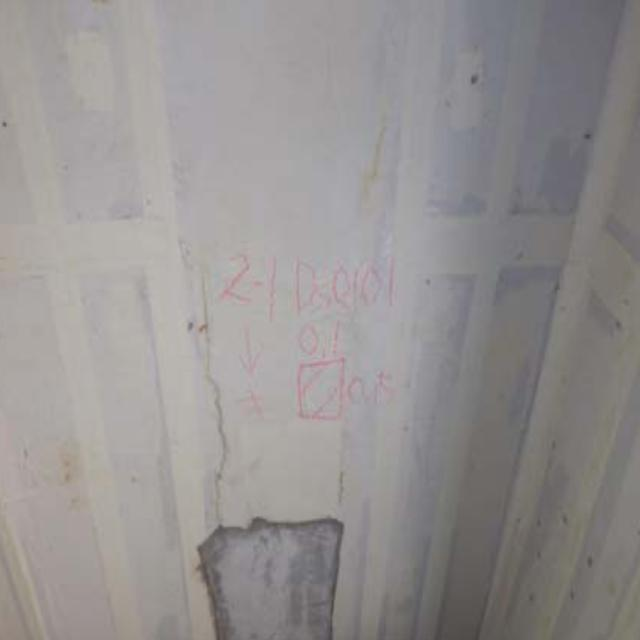crack: (184, 276, 253, 503)
spalling: (182, 518, 368, 640)
